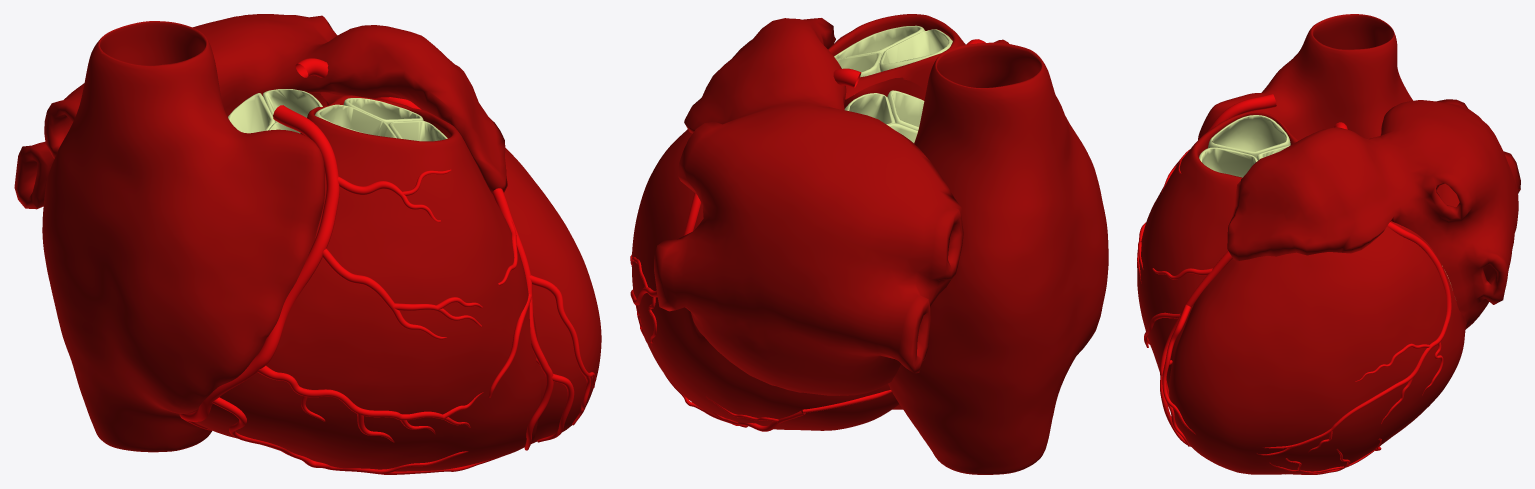
File: New Heart.glb
3 renders of one model, left to right at view 1: azimuth 30°, elevation 25°; view 2: azimuth 150°, elevation 25°; view 3: azimuth 270°, elevation 25°, orthographic. The views are drawn at different scales.
Visible parts, largest first — view 1: Right atrium, Right ventricle, Left atrium, Coronary Arteries, Left ventricle, Leaflet; view 2: Left atrium, Right atrium, Left ventricle, Leaflet, Right ventricle, Coronary Arteries; view 3: Left ventricle, Left atrium, Right atrium, Right ventricle, Coronary Arteries, Leaflet.
Boxes of the visible parts, x1=… form: Right atrium: x1=42, y1=21, x2=324, y2=452; Right ventricle: x1=185, y1=92, x2=541, y2=471; Left atrium: x1=14, y1=14, x2=507, y2=209; Coronary Arteries: x1=179, y1=58, x2=595, y2=474; Left ventricle: x1=310, y1=93, x2=601, y2=443; Leaflet: x1=228, y1=89, x2=447, y2=141; Left atrium: x1=654, y1=18, x2=963, y2=395; Right atrium: x1=888, y1=39, x2=1108, y2=474; Left ventricle: x1=631, y1=77, x2=925, y2=430; Leaflet: x1=834, y1=25, x2=952, y2=142; Right ventricle: x1=828, y1=14, x2=965, y2=409; Coronary Arteries: x1=630, y1=39, x2=985, y2=431; Left ventricle: x1=1169, y1=221, x2=1466, y2=474; Left atrium: x1=1227, y1=99, x2=1520, y2=329; Right atrium: x1=1198, y1=14, x2=1413, y2=221; Right ventricle: x1=1137, y1=111, x2=1298, y2=389; Coronary Arteries: x1=1137, y1=94, x2=1451, y2=474; Leaflet: x1=1199, y1=115, x2=1450, y2=283.
Size of the model in its own units: 0.1191 by 0.108 by 0.1129.
